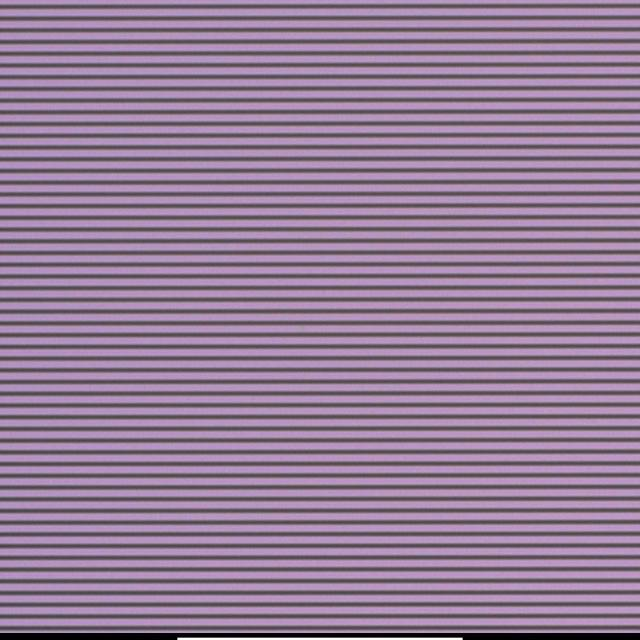nonvisual: (299, 324, 305, 332)
